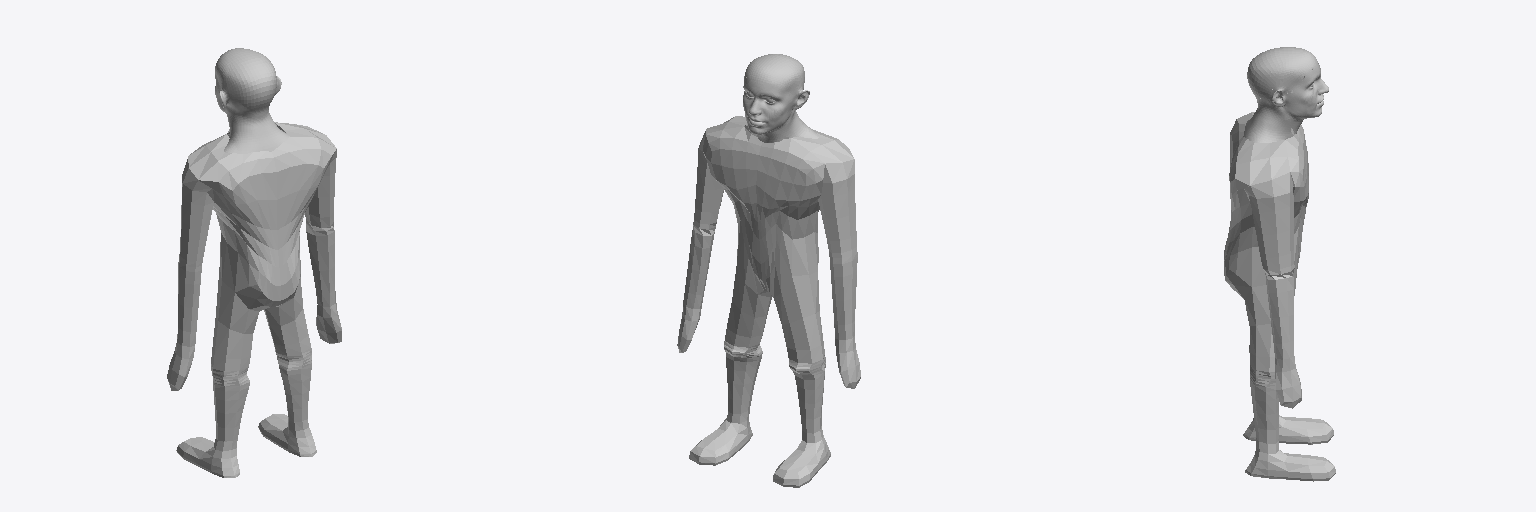
File: PersonaSi.obj
3 renders of one model, left to right at view 1: azimuth 30°, elevation 25°; view 2: azimuth 150°, elevation 25°; view 3: azimuth 270°, elevation 25°, orthographic.
Parts seen in each view (by area): view 1: Cube, FBHead_FBHead_mesh; view 2: Cube, FBHead_FBHead_mesh; view 3: Cube, FBHead_FBHead_mesh.
Part boxes in pixels (bbox=[...]): Cube: bbox=[167, 122, 341, 477]; FBHead_FBHead_mesh: bbox=[215, 48, 289, 153]; Cube: bbox=[677, 116, 860, 487]; FBHead_FBHead_mesh: bbox=[743, 54, 818, 142]; Cube: bbox=[1224, 112, 1335, 481]; FBHead_FBHead_mesh: bbox=[1243, 47, 1328, 142].
Bounding box in the file's own units: 19.05 × 41.93 × 10.59.